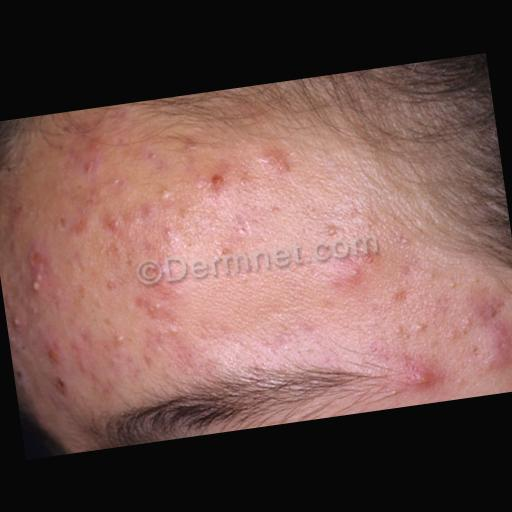Skin_Lesion: (473, 314, 512, 370), (135, 288, 184, 330), (404, 348, 446, 396), (149, 186, 182, 242), (328, 240, 368, 286), (64, 140, 104, 184), (22, 250, 52, 297), (196, 164, 234, 198), (258, 144, 292, 180), (106, 323, 134, 357), (59, 209, 90, 237), (50, 370, 75, 404), (43, 338, 66, 368), (104, 210, 128, 238), (10, 312, 30, 337), (102, 274, 122, 294)
